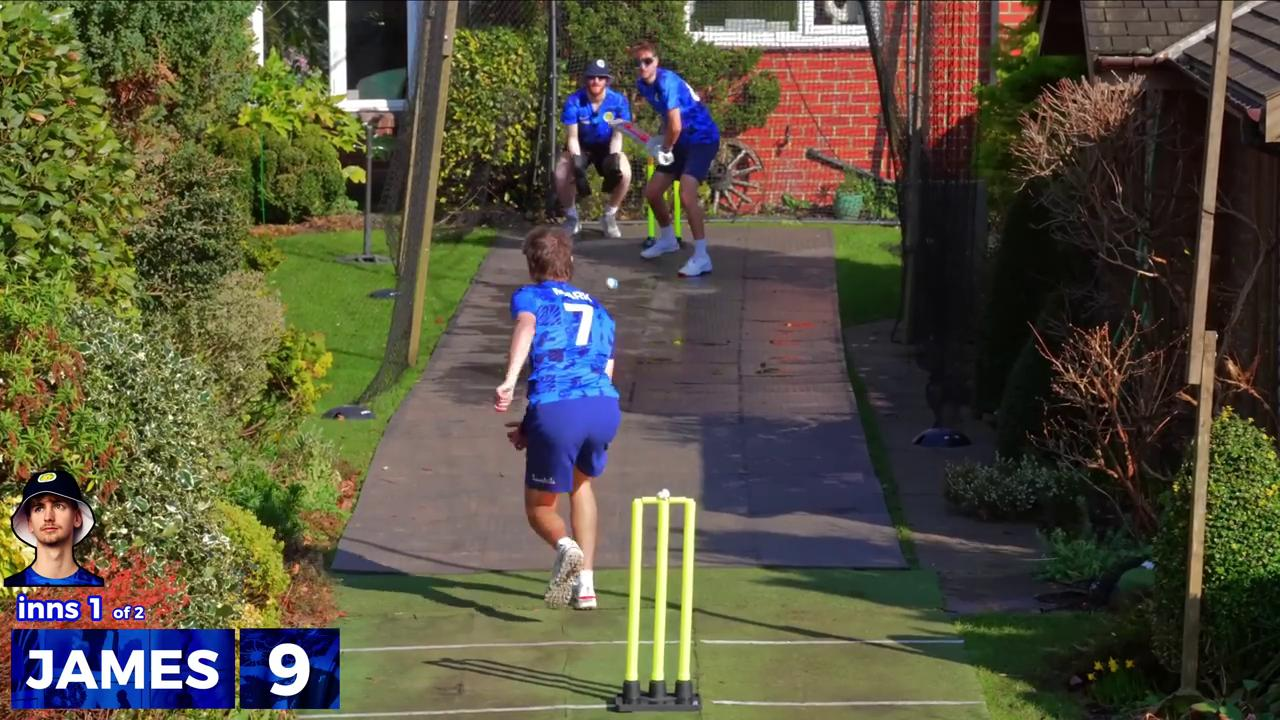ball: (599, 270, 629, 295)
